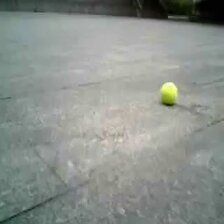tennis: (161, 83, 177, 103)
